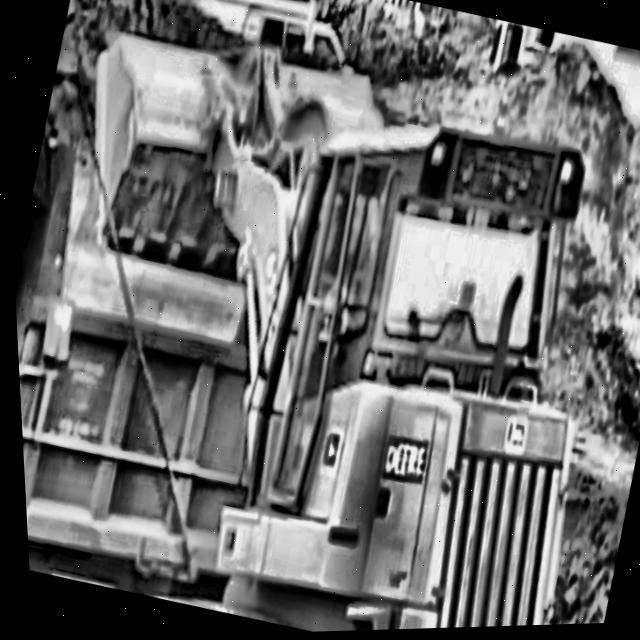buldozerpayloadergrader: (0, 0, 640, 640)
dump_truck: (3, 55, 358, 622)
